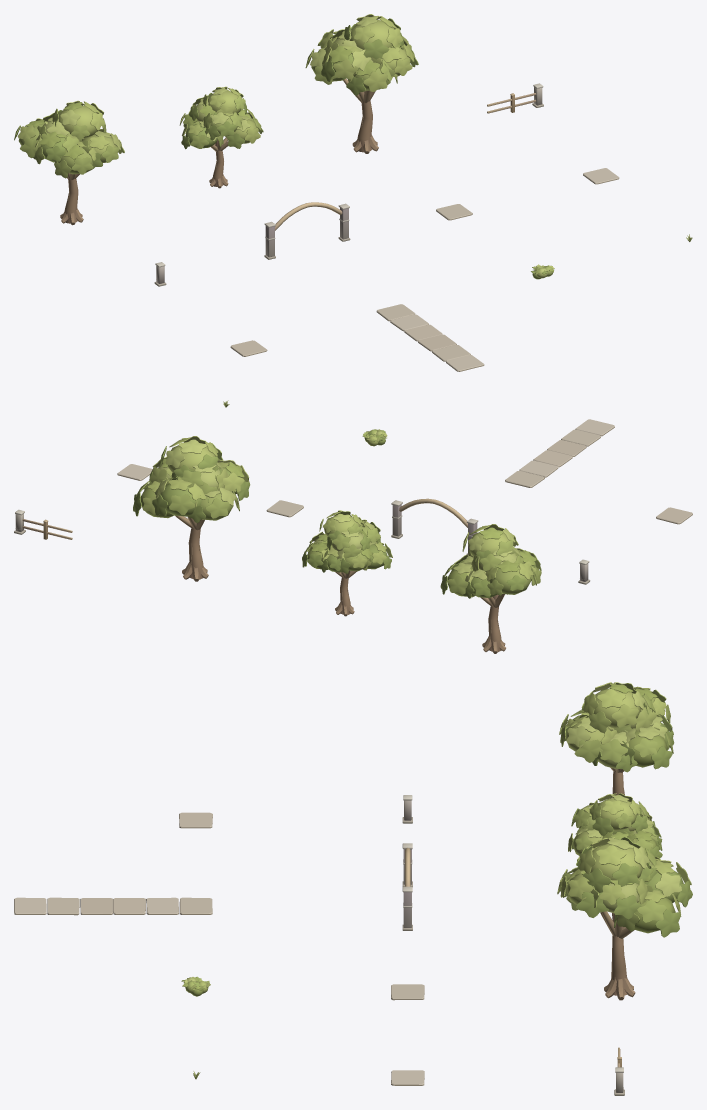
The model's file is GrowAZombie_GardenEnvironmentV4.glb.
3 views of the same model, one above another, from view 1: azimuth 30°, elevation 25°; view 2: azimuth 150°, elevation 25°; view 3: azimuth 270°, elevation 25° (orthographic). The views are drawn at different scales.
Visible parts, largest first — view 1: ENV_TreeC__Canopy, ENV_TreeA__Canopy, ENV_TreeB__Canopy, ENV_Path__Main, ENV_Gate__Main, ENV_TreeC__Trunk, ENV_TreeA__Trunk, ENV_Fence__Main; view 2: ENV_TreeC__Canopy, ENV_TreeA__Canopy, ENV_TreeB__Canopy, ENV_Path__Main, ENV_TreeC__Trunk, ENV_Gate__Main, ENV_TreeA__Trunk, ENV_Fence__Main, ENV_TreeB__Trunk, ENV_Tile1__Main, ENV_Tile3__Main; view 3: ENV_TreeC__Canopy, ENV_TreeA__Canopy, ENV_TreeB__Canopy, ENV_Path__Main, ENV_TreeC__Trunk, ENV_Gate__Main.
Part boxes in pixels (bbox=[...]): ENV_TreeC__Canopy: bbox=[305, 14, 418, 95]; ENV_TreeA__Canopy: bbox=[14, 100, 124, 178]; ENV_TreeB__Canopy: bbox=[179, 86, 263, 149]; ENV_Path__Main: bbox=[376, 304, 484, 371]; ENV_Gate__Main: bbox=[264, 202, 350, 259]; ENV_TreeC__Trunk: bbox=[343, 78, 378, 153]; ENV_TreeA__Trunk: bbox=[60, 173, 83, 225]; ENV_Fence__Main: bbox=[487, 83, 543, 113]; ENV_TreeC__Canopy: bbox=[133, 436, 250, 523]; ENV_TreeA__Canopy: bbox=[440, 524, 541, 598]; ENV_TreeB__Canopy: bbox=[302, 510, 392, 573]; ENV_Path__Main: bbox=[505, 419, 614, 487]; ENV_TreeC__Trunk: bbox=[175, 515, 208, 581]; ENV_Gate__Main: bbox=[391, 498, 478, 554]; ENV_TreeA__Trunk: bbox=[480, 594, 505, 653]; ENV_Fence__Main: bbox=[14, 509, 72, 539]; ENV_TreeB__Trunk: bbox=[335, 570, 356, 616]; ENV_Tile1__Main: bbox=[266, 500, 303, 517]; ENV_Tile3__Main: bbox=[656, 507, 692, 524]; ENV_TreeC__Canopy: bbox=[557, 837, 692, 937]; ENV_TreeA__Canopy: bbox=[559, 682, 674, 772]; ENV_TreeB__Canopy: bbox=[568, 793, 662, 857]; ENV_Path__Main: bbox=[14, 897, 212, 915]; ENV_TreeC__Trunk: bbox=[600, 911, 635, 1000]; ENV_Gate__Main: bbox=[402, 843, 412, 930].
Bounding box in the file's own units: 81.01 × 19.49 × 76.91.
